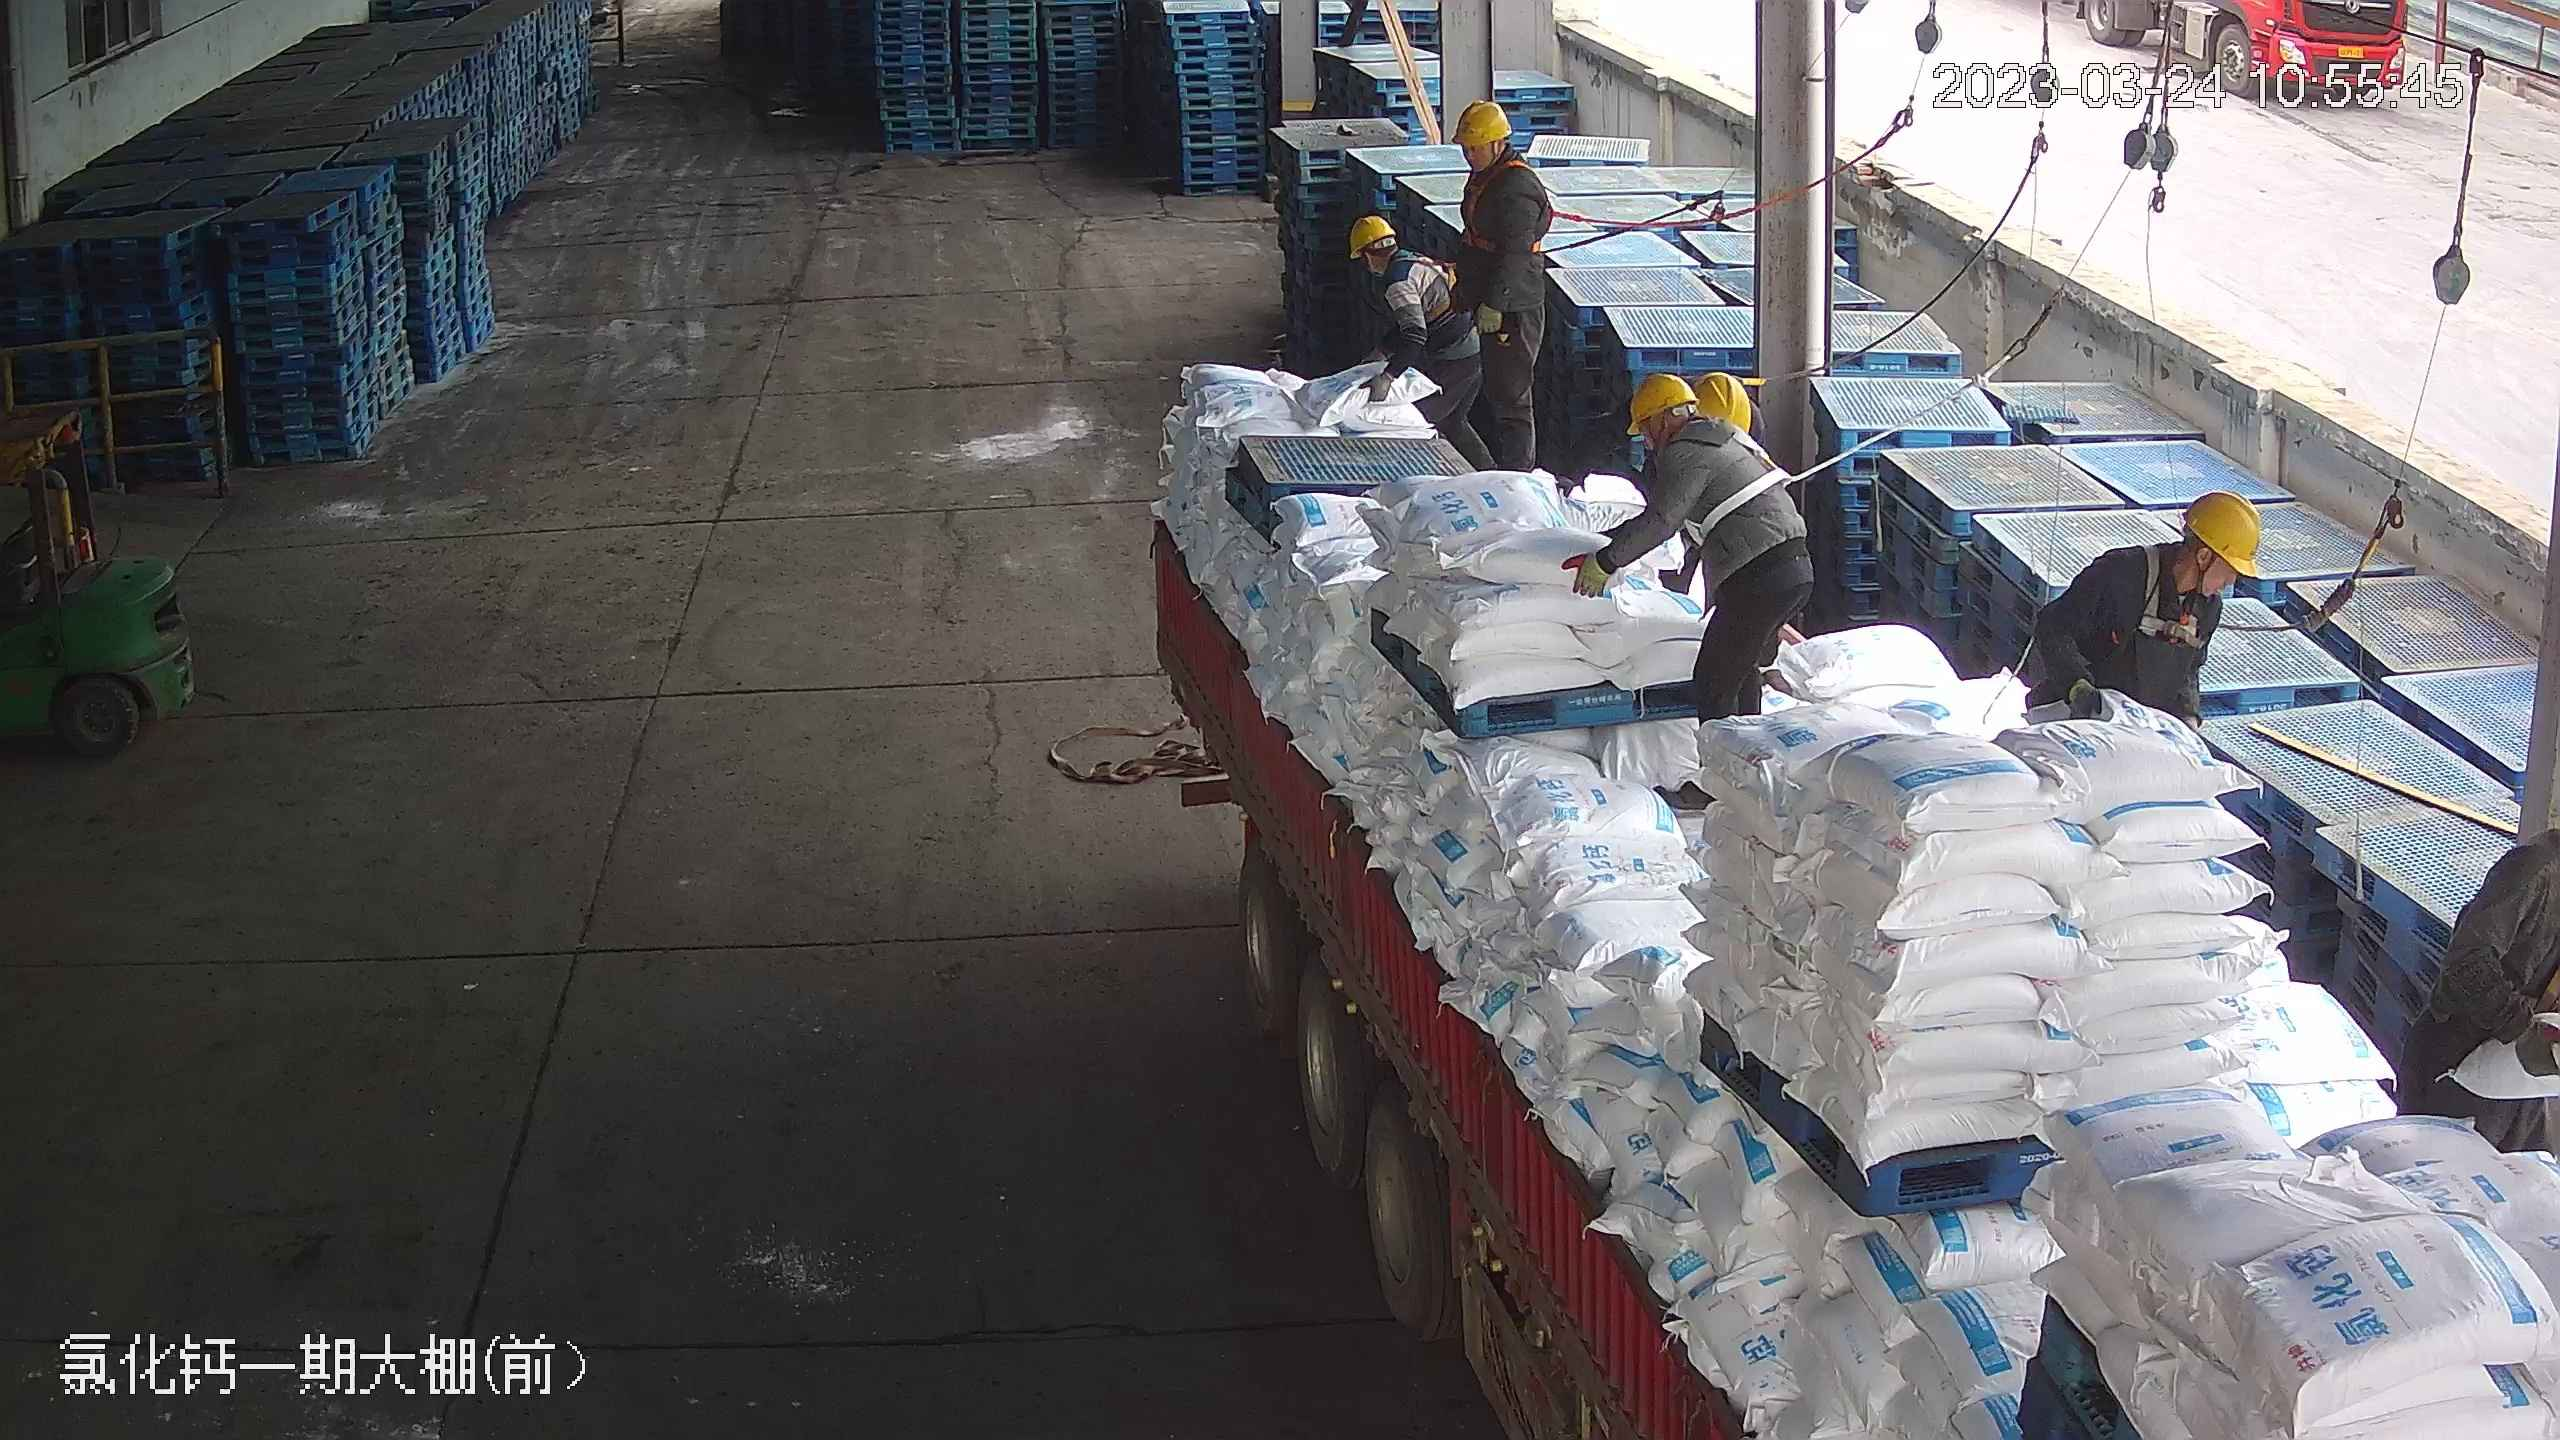belt: (1676, 432, 1808, 543), (2131, 543, 2217, 651), (1461, 154, 1557, 249), (1388, 248, 1467, 321), (1728, 367, 1792, 389)
head: (2077, 485, 2261, 638), (1624, 371, 1771, 506), (1447, 98, 1546, 213), (1345, 214, 1451, 314)
helmet: (2180, 484, 2263, 581), (1685, 368, 1753, 434), (1624, 372, 1696, 436), (1453, 98, 1511, 144), (1344, 212, 1399, 259)
people: (1557, 371, 1812, 817), (2022, 490, 2274, 728), (1338, 210, 1531, 477), (1443, 100, 1557, 466)
truck: (1161, 203, 2544, 1440)
